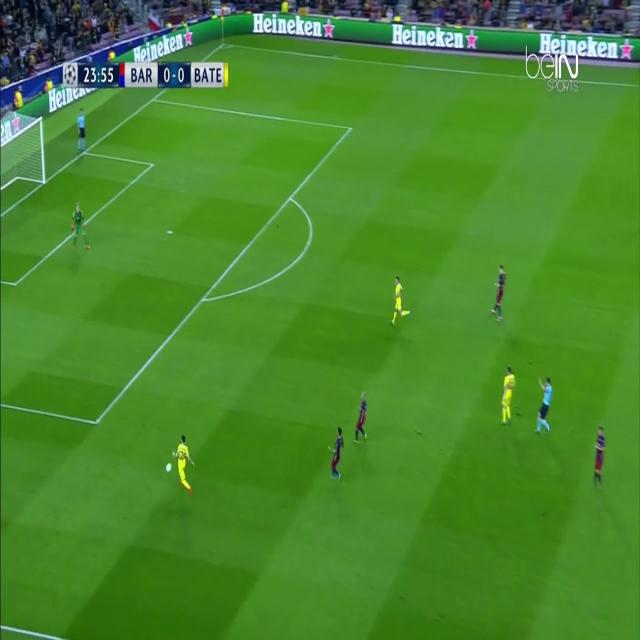Ball: (164, 459, 173, 475)
Goalkeeper: (69, 200, 93, 257)
Player: (172, 428, 197, 502), (326, 424, 346, 486), (389, 273, 411, 328), (591, 424, 608, 492), (501, 366, 518, 432), (351, 391, 371, 446), (491, 260, 508, 324)
Referee: (533, 374, 555, 436), (76, 106, 88, 160)
